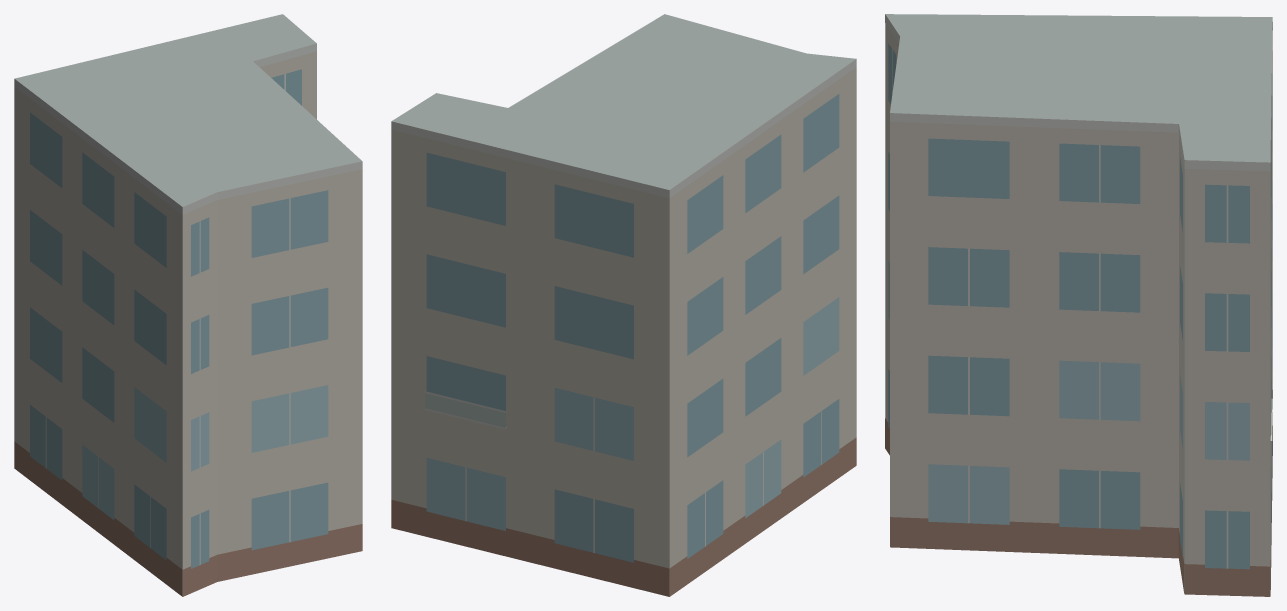
Rendered from survey-upis-32749309.glb.
3 renders of one model, left to right at view 1: azimuth 30°, elevation 25°; view 2: azimuth 150°, elevation 25°; view 3: azimuth 270°, elevation 25°, orthographic. The views are drawn at different scales.
Parts seen in each view (by area): view 1: survey-upis-32749309.tmp; view 2: survey-upis-32749309.tmp; view 3: survey-upis-32749309.tmp.
Boxes of the visible parts, box(x1,y1,x2,y2) form: survey-upis-32749309.tmp: box(14, 14, 362, 596); survey-upis-32749309.tmp: box(391, 14, 856, 596); survey-upis-32749309.tmp: box(885, 14, 1272, 596).
Bounding box in the file's own units: 8.96 × 12.2 × 9.88.
